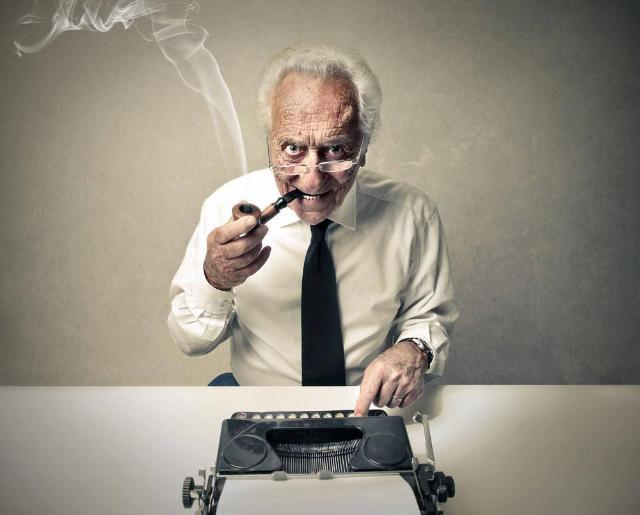Cigarette: (232, 181, 300, 229)
